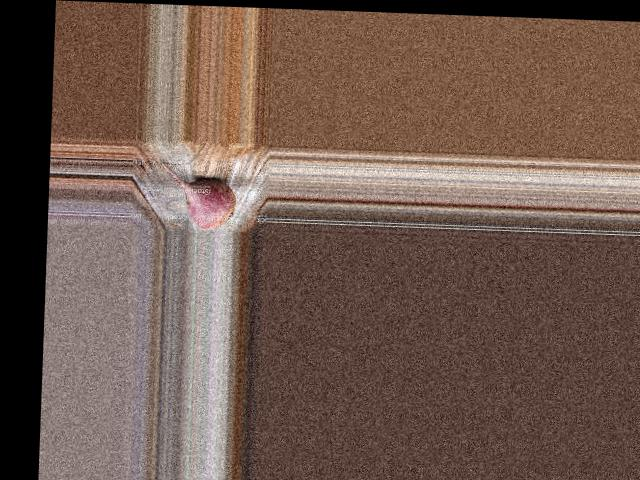beet: (158, 162, 236, 230)
